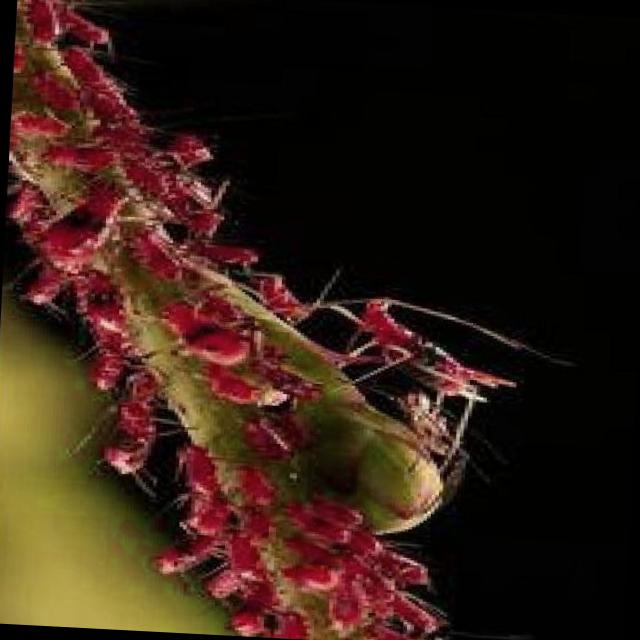aphid: (335, 297, 526, 413), (284, 494, 363, 548), (38, 215, 108, 270), (9, 88, 70, 151), (132, 232, 196, 288), (107, 395, 159, 458), (60, 45, 119, 100), (53, 2, 114, 54), (237, 414, 300, 464), (247, 271, 311, 320), (116, 157, 182, 204), (201, 362, 269, 407), (178, 443, 226, 506), (182, 325, 252, 368), (80, 298, 133, 352), (155, 538, 216, 578), (44, 142, 114, 176), (75, 181, 124, 227), (163, 130, 216, 172), (233, 465, 281, 511), (22, 262, 70, 306), (188, 500, 236, 542), (194, 240, 260, 270), (8, 184, 48, 230), (284, 560, 340, 592), (162, 300, 208, 338), (90, 350, 128, 394), (207, 566, 254, 600), (183, 203, 224, 238), (330, 587, 364, 628), (229, 606, 273, 636), (26, 0, 61, 36)
